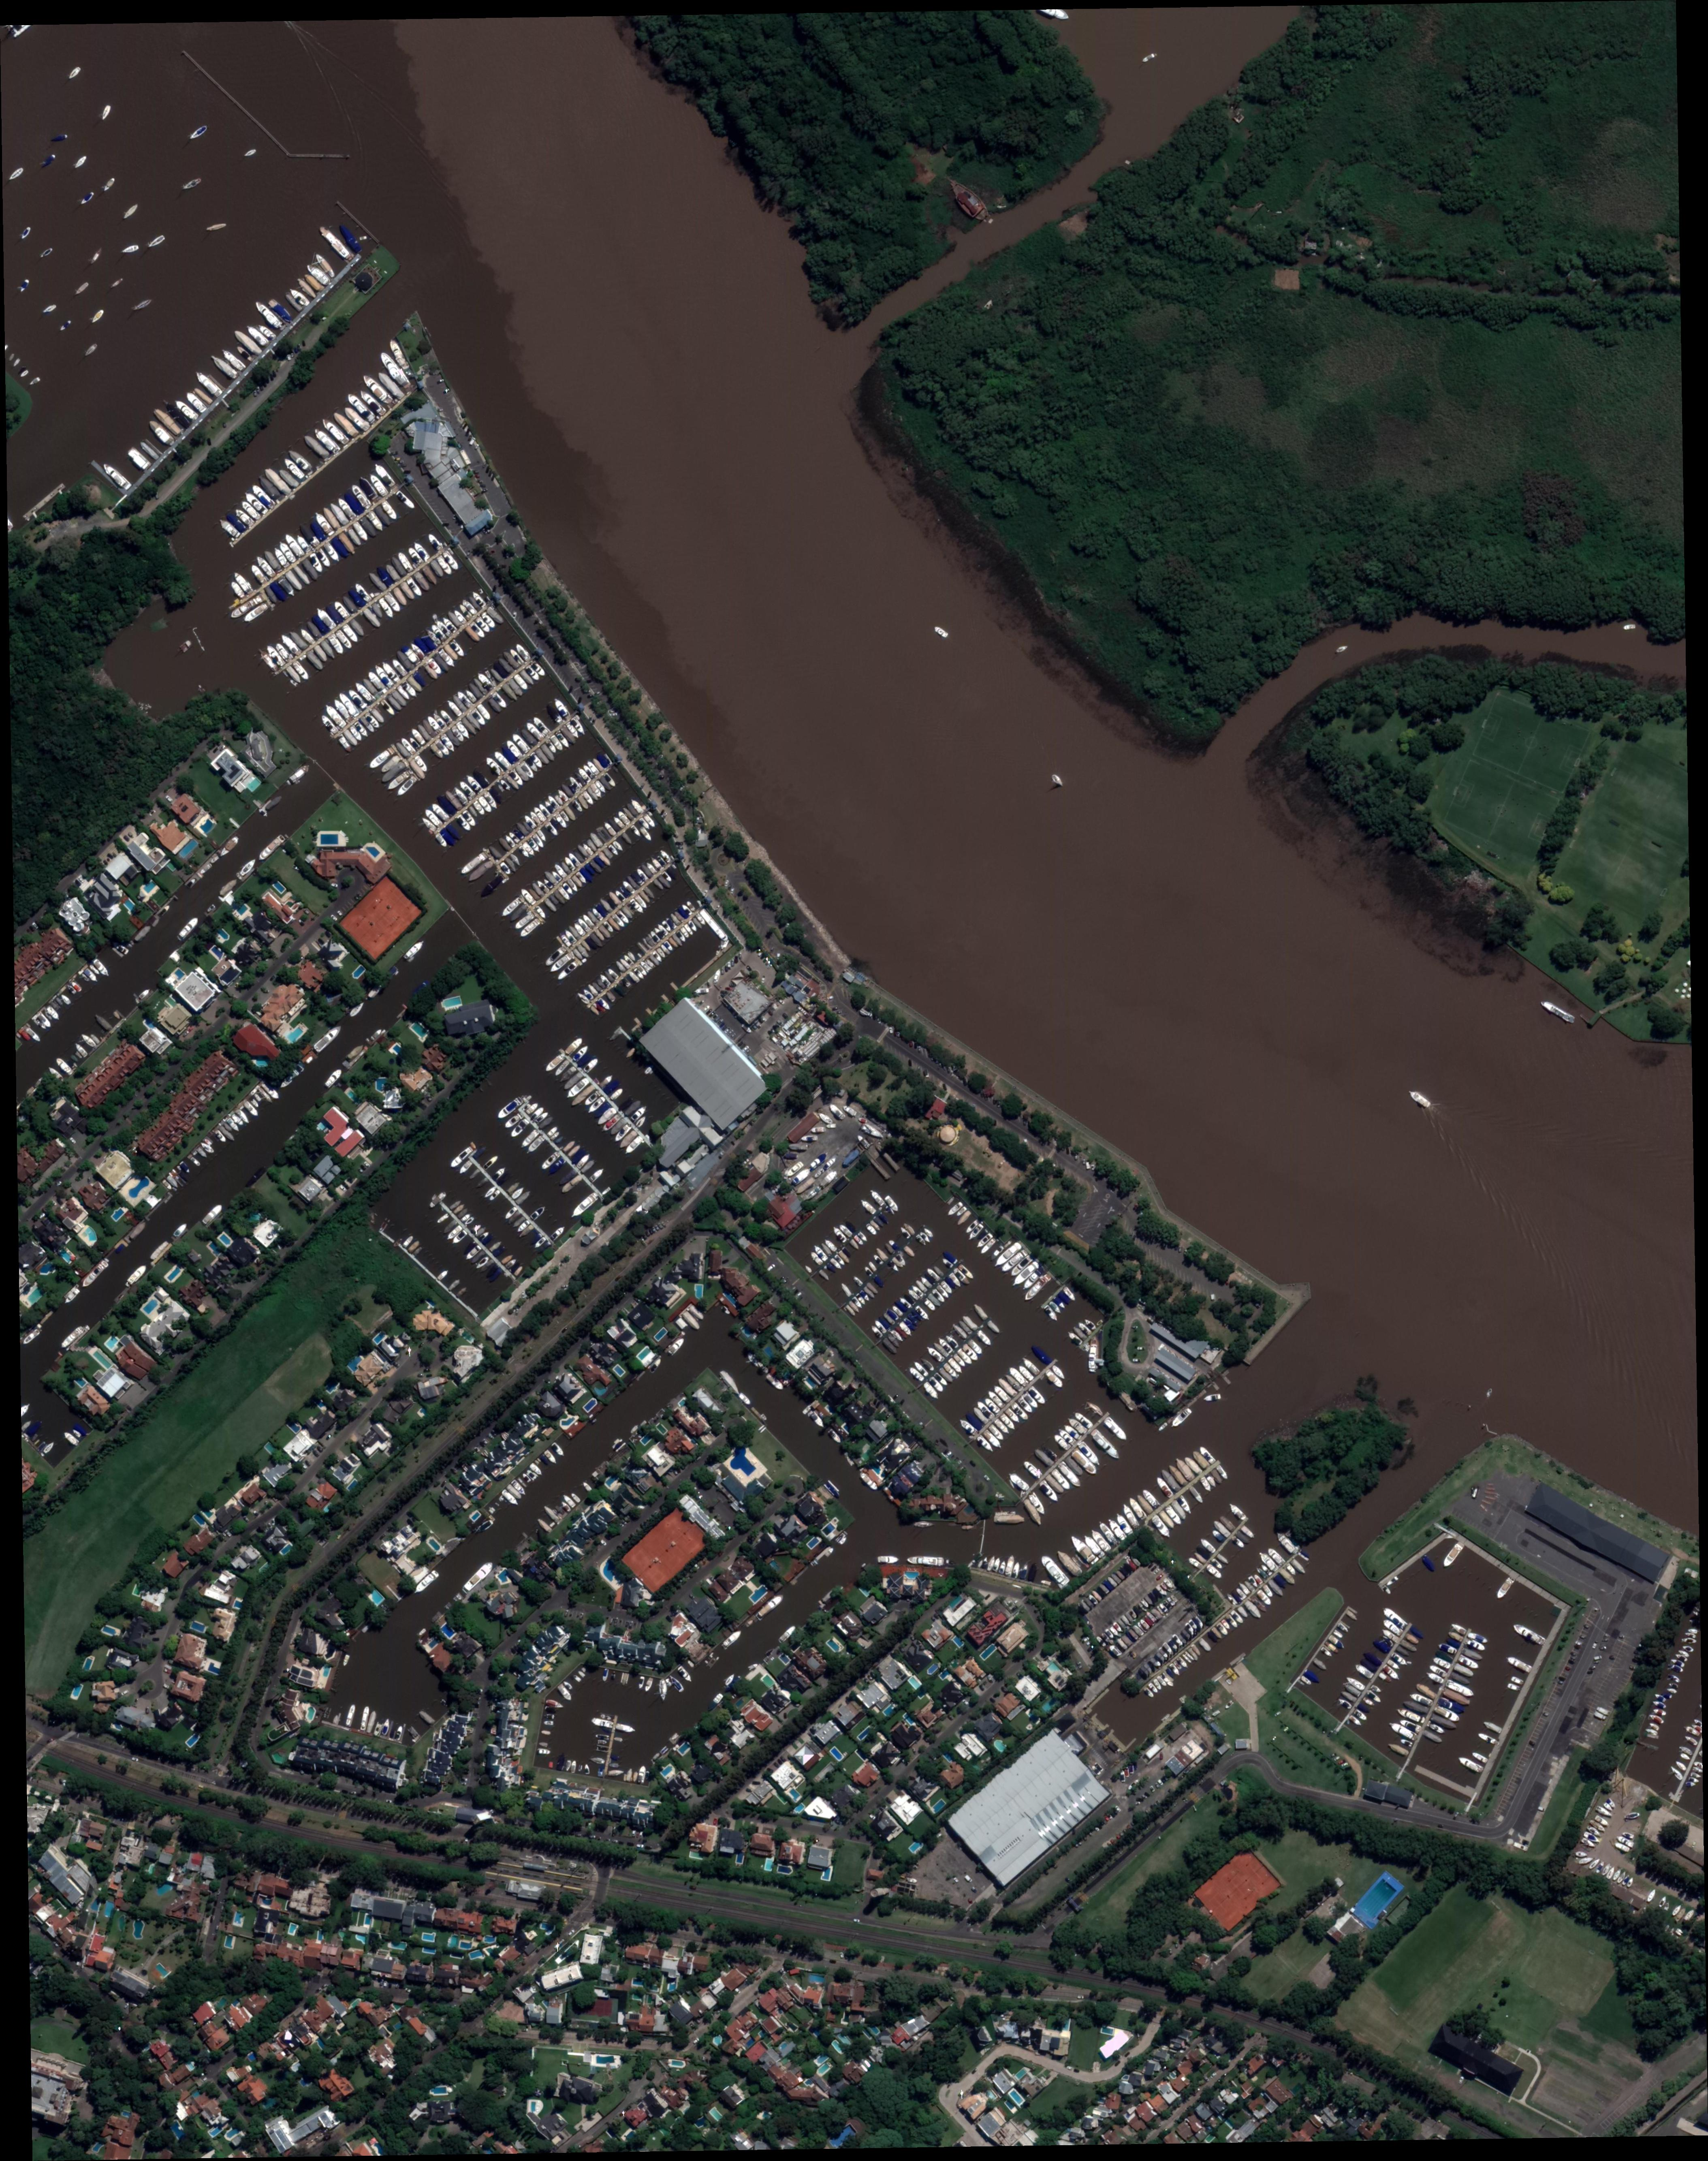harbor: (214, 347, 423, 547), (207, 461, 419, 630), (254, 528, 465, 693), (314, 586, 507, 754), (365, 640, 549, 800), (414, 695, 591, 852), (458, 749, 626, 902), (498, 795, 661, 942), (533, 842, 682, 986), (1378, 1621, 1492, 1779), (573, 895, 714, 1021), (1001, 1396, 1135, 1526), (495, 1088, 621, 1219), (544, 1033, 666, 1158), (449, 1137, 570, 1258), (1324, 1601, 1431, 1737), (952, 1340, 1073, 1459), (865, 1249, 977, 1359), (419, 1184, 528, 1296), (901, 1300, 1007, 1407), (829, 1214, 936, 1319), (798, 1184, 903, 1287), (1128, 1440, 1233, 1544), (1224, 1528, 1315, 1623), (1292, 1605, 1363, 1696), (607, 1026, 687, 1105), (1185, 1500, 1259, 1584), (1038, 1282, 1078, 1324)
ship: (942, 170, 994, 228), (316, 221, 358, 263), (375, 349, 412, 391), (459, 1558, 498, 1596), (149, 403, 186, 439), (344, 389, 379, 426), (359, 372, 396, 407), (1038, 1552, 1071, 1591), (388, 335, 416, 379), (698, 907, 731, 944), (191, 363, 224, 400), (230, 325, 267, 358), (253, 296, 286, 333), (310, 1023, 345, 1056), (1089, 1428, 1122, 1463), (1068, 1531, 1101, 1566), (228, 593, 267, 623), (1538, 996, 1576, 1026), (79, 1258, 112, 1291), (160, 396, 193, 430), (317, 414, 351, 447), (374, 368, 407, 402), (1022, 1270, 1054, 1305), (1510, 1621, 1548, 1649), (256, 831, 288, 865), (207, 351, 240, 382), (217, 342, 249, 375), (100, 461, 133, 493), (335, 221, 365, 256), (568, 1191, 600, 1223), (146, 417, 177, 449), (261, 465, 293, 496), (330, 407, 361, 439), (358, 388, 389, 419), (1070, 1447, 1101, 1479), (1054, 1547, 1085, 1579), (991, 1240, 1024, 1270), (1008, 1259, 1042, 1289), (125, 444, 154, 475), (275, 453, 307, 482), (300, 431, 331, 461), (310, 426, 342, 456), (342, 403, 374, 433), (267, 295, 296, 325), (303, 260, 333, 289), (284, 446, 314, 475), (370, 460, 398, 491), (1056, 1459, 1084, 1491), (1378, 1603, 1410, 1631), (449, 1142, 479, 1170), (1019, 1265, 1047, 1294), (182, 386, 210, 416), (244, 321, 272, 351), (998, 1249, 1029, 1275), (1387, 1719, 1420, 1744), (277, 1063, 305, 1091), (58, 1323, 86, 1351), (412, 1568, 440, 1596), (242, 489, 270, 517), (249, 482, 277, 510), (254, 474, 282, 502), (1101, 1416, 1129, 1444), (568, 1084, 598, 1110), (367, 745, 396, 772), (459, 851, 489, 877), (1080, 1531, 1107, 1561), (1157, 1465, 1184, 1494), (717, 1368, 744, 1398), (756, 1593, 786, 1619), (1440, 1540, 1466, 1570), (1021, 1496, 1045, 1528), (1173, 1452, 1198, 1484), (1394, 1705, 1427, 1728), (1436, 1694, 1470, 1717), (1433, 1701, 1466, 1724), (254, 645, 281, 674), (323, 702, 349, 730), (351, 679, 379, 705), (235, 496, 263, 523), (466, 858, 495, 884), (479, 874, 507, 900), (1077, 1440, 1103, 1468), (1094, 1519, 1121, 1547), (1443, 1679, 1478, 1700), (349, 482, 374, 512), (337, 689, 361, 719), (1119, 1500, 1142, 1531), (1441, 1686, 1473, 1708), (175, 916, 202, 942), (402, 937, 428, 963), (277, 631, 303, 658), (286, 284, 312, 310), (295, 275, 321, 302), (1275, 1530, 1301, 1556), (496, 1096, 524, 1121), (314, 603, 338, 631), (356, 474, 381, 502), (296, 521, 321, 549), (379, 760, 407, 784), (1405, 1086, 1433, 1110), (1049, 1466, 1073, 1494), (1164, 1461, 1189, 1489), (1105, 1514, 1129, 1542), (1089, 1526, 1114, 1554), (1455, 1752, 1485, 1775), (565, 1077, 591, 1102), (286, 763, 312, 788), (217, 833, 242, 859), (1008, 1254, 1035, 1279), (263, 642, 288, 668), (312, 510, 337, 537), (365, 668, 389, 695), (379, 658, 403, 684), (216, 516, 242, 540), (223, 509, 249, 533), (230, 503, 256, 528), (230, 570, 254, 596), (542, 945, 568, 970), (174, 398, 200, 423), (1007, 1363, 1031, 1389), (1256, 1547, 1280, 1573), (242, 602, 270, 624), (393, 645, 416, 674), (282, 531, 305, 560), (1494, 1573, 1517, 1601), (1429, 1712, 1461, 1731), (200, 1202, 224, 1226), (191, 384, 216, 409), (277, 467, 302, 491), (500, 896, 524, 921), (556, 959, 580, 984), (1029, 1342, 1054, 1366), (1170, 1407, 1194, 1431), (328, 500, 351, 526), (342, 489, 365, 516), (367, 472, 389, 498), (372, 663, 395, 689), (547, 952, 573, 975), (314, 253, 337, 279), (1038, 1479, 1061, 1505), (858, 1468, 880, 1494), (1150, 1514, 1173, 1540), (1126, 1494, 1149, 1521), (1114, 1510, 1135, 1538), (1401, 1698, 1431, 1717), (559, 1173, 584, 1196), (538, 1149, 563, 1172), (524, 1133, 547, 1158), (517, 1128, 540, 1152), (623, 1133, 645, 1158), (323, 1066, 345, 1091), (126, 1261, 149, 1286), (335, 496, 358, 521), (393, 489, 417, 512), (275, 574, 298, 598), (345, 688, 370, 710), (398, 642, 421, 667), (282, 289, 305, 314), (186, 121, 210, 144), (179, 174, 203, 196), (254, 554, 277, 579), (512, 910, 537, 933), (517, 917, 542, 940), (386, 770, 410, 793), (395, 775, 419, 798), (530, 714, 552, 738), (1021, 1458, 1045, 1480), (1007, 1470, 1031, 1493), (1043, 1473, 1066, 1498), (1063, 1454, 1085, 1479), (1140, 1486, 1163, 1510), (680, 1309, 703, 1333), (1242, 1598, 1264, 1623), (321, 505, 342, 531), (337, 531, 358, 558), (277, 538, 298, 565), (1413, 1680, 1440, 1701), (1028, 1491, 1047, 1519), (1408, 1689, 1436, 1708), (1505, 1654, 1533, 1673), (509, 1117, 531, 1140), (563, 1035, 586, 1058), (544, 1052, 566, 1075), (808, 1149, 831, 1172), (288, 628, 310, 651), (309, 612, 331, 635), (367, 570, 389, 593), (365, 510, 388, 533), (361, 607, 384, 630), (303, 649, 326, 672), (256, 321, 279, 344), (137, 439, 160, 461), (435, 795, 458, 817), (442, 789, 465, 812), (980, 1428, 1003, 1451), (963, 1409, 986, 1431), (986, 1387, 1008, 1410), (991, 1382, 1014, 1405), (996, 1375, 1019, 1398), (1019, 1354, 1042, 1377), (1043, 1368, 1066, 1391), (1182, 1454, 1205, 1477), (1264, 1545, 1287, 1568), (584, 1095, 608, 1116), (351, 519, 372, 544), (330, 535, 351, 560), (323, 540, 344, 565), (319, 712, 340, 737), (331, 696, 352, 721), (261, 547, 282, 572), (523, 721, 547, 742), (544, 702, 565, 726), (1191, 1447, 1212, 1472), (1154, 1475, 1175, 1500), (1135, 1491, 1156, 1516), (1163, 1503, 1184, 1528), (1380, 1617, 1405, 1638), (1457, 1652, 1484, 1672), (1089, 1333, 1101, 1373), (545, 1156, 566, 1179), (601, 1112, 623, 1135), (596, 1107, 619, 1128), (344, 1042, 367, 1063), (217, 877, 240, 898), (91, 956, 112, 979), (260, 1080, 282, 1102), (924, 1344, 947, 1365), (961, 1342, 982, 1365), (791, 1165, 814, 1186), (272, 640, 293, 663), (324, 603, 345, 626), (331, 598, 352, 621), (345, 588, 368, 609), (412, 570, 433, 593), (284, 570, 305, 593), (268, 581, 289, 603), (433, 616, 454, 638), (428, 621, 449, 644), (389, 656, 410, 679), (498, 742, 519, 765), (423, 807, 445, 828), (463, 772, 484, 795), (484, 756, 505, 779), (379, 754, 402, 775), (475, 670, 496, 693), (503, 738, 524, 761), (510, 731, 531, 754), (303, 272, 326, 293), (1056, 1426, 1078, 1447), (975, 1433, 996, 1456), (1066, 1416, 1089, 1437), (1033, 1447, 1056, 1468), (975, 1398, 996, 1421), (1003, 1372, 1026, 1393), (1010, 1400, 1031, 1423), (1157, 1508, 1178, 1531), (763, 1372, 786, 1393), (721, 1628, 744, 1649), (721, 1673, 744, 1694), (1249, 1593, 1270, 1615), (502, 1112, 526, 1131), (561, 1072, 586, 1091), (375, 565, 395, 589), (389, 554, 409, 579), (412, 538, 431, 563), (302, 558, 321, 582), (377, 596, 396, 621), (328, 631, 347, 656), (249, 561, 268, 586), (409, 758, 428, 782), (552, 696, 572, 721), (1170, 1498, 1189, 1523), (1385, 1740, 1410, 1759), (859, 1123, 886, 1140), (1398, 1717, 1424, 1735), (617, 1130, 638, 1151), (238, 856, 260, 877), (93, 1012, 114, 1033), (149, 1240, 170, 1261), (128, 1221, 149, 1242), (935, 1335, 956, 1356), (500, 1487, 521, 1508), (952, 1266, 973, 1287), (303, 619, 324, 640), (338, 593, 359, 614), (352, 582, 374, 603), (438, 614, 459, 635), (389, 688, 410, 709), (359, 677, 381, 698), (235, 342, 256, 363), (507, 903, 528, 924), (517, 886, 538, 907), (500, 682, 521, 703), (430, 802, 451, 823), (449, 693, 470, 714), (500, 649, 521, 670), (491, 749, 512, 770), (517, 726, 538, 747), (770, 1365, 791, 1386), (1084, 1398, 1105, 1419), (970, 1405, 991, 1426), (1212, 1517, 1233, 1538), (666, 1335, 687, 1356), (777, 1624, 798, 1645), (705, 1691, 726, 1712), (556, 1168, 579, 1187), (472, 1517, 495, 1537), (794, 1177, 817, 1196), (382, 560, 402, 582), (426, 530, 445, 553), (442, 549, 461, 572), (435, 554, 454, 577), (421, 565, 440, 588), (359, 516, 379, 538), (381, 500, 400, 523), (374, 505, 393, 528), (314, 547, 333, 570), (293, 565, 312, 588), (384, 591, 403, 614), (438, 647, 458, 670), (335, 628, 354, 651), (291, 660, 310, 682), (309, 521, 328, 544), (121, 200, 140, 223), (130, 296, 153, 316), (459, 716, 479, 738), (451, 784, 470, 807), (458, 779, 477, 802), (472, 767, 491, 789), (559, 724, 579, 747), (1071, 1410, 1094, 1430), (1061, 1421, 1084, 1440), (1050, 1431, 1073, 1451), (998, 1410, 1017, 1433), (666, 1672, 686, 1694), (542, 1503, 561, 1526), (1361, 1649, 1384, 1668), (1352, 1661, 1375, 1680), (396, 549, 414, 574), (1452, 1661, 1477, 1679), (1420, 1728, 1445, 1745), (1003, 1552, 1019, 1579), (1461, 1647, 1487, 1663), (630, 1103, 649, 1124), (614, 1123, 633, 1144), (608, 1117, 628, 1138), (582, 1089, 603, 1109), (558, 1065, 579, 1084), (480, 1152, 502, 1172), (133, 923, 153, 944), (33, 1010, 54, 1030), (21, 1328, 42, 1347), (63, 1286, 82, 1307), (928, 1375, 947, 1396), (922, 1380, 942, 1401), (942, 1361, 961, 1382), (947, 1356, 966, 1377), (950, 1321, 970, 1342), (912, 1358, 931, 1379), (907, 1365, 928, 1384), (956, 1347, 975, 1368), (505, 1482, 524, 1503), (417, 1707, 437, 1728), (829, 1224, 849, 1245), (25, 1419, 46, 1438), (60, 1430, 81, 1449), (828, 1102, 847, 1123), (966, 1223, 986, 1244), (405, 577, 424, 598), (398, 581, 417, 602), (445, 609, 465, 630), (486, 607, 507, 626), (405, 674, 424, 695), (400, 679, 419, 700), (386, 693, 405, 714), (363, 710, 382, 731), (424, 626, 444, 647), (412, 635, 431, 656), (349, 617, 368, 638), (284, 665, 303, 686), (407, 640, 426, 661), (433, 737, 452, 758), (512, 672, 531, 693), (507, 677, 526, 698), (454, 721, 473, 742), (438, 733, 458, 754), (409, 726, 428, 747), (424, 714, 444, 735), (456, 689, 475, 710), (438, 828, 458, 849), (445, 823, 465, 844), (538, 742, 558, 763), (1040, 1444, 1061, 1463), (987, 1423, 1007, 1444), (957, 1417, 979, 1437), (1015, 1361, 1035, 1382), (1028, 1386, 1047, 1407), (1021, 1391, 1042, 1410), (1015, 1394, 1035, 1416), (1217, 1514, 1238, 1533), (1228, 1501, 1249, 1521), (1198, 1444, 1217, 1465), (907, 1556, 945, 1566), (1382, 1663, 1403, 1682), (1303, 1666, 1324, 1686), (1345, 1673, 1366, 1693), (1266, 1579, 1285, 1600), (407, 544, 424, 567), (307, 553, 324, 575), (272, 546, 289, 568), (465, 710, 482, 733), (416, 721, 433, 744), (570, 716, 587, 738), (1466, 1637, 1489, 1654), (1448, 1670, 1473, 1686), (570, 1147, 589, 1166), (579, 1156, 598, 1175), (587, 1165, 607, 1184), (572, 1044, 591, 1063), (582, 1056, 601, 1075), (601, 1077, 621, 1096), (624, 1098, 644, 1117), (593, 1102, 612, 1121), (449, 1230, 468, 1249), (242, 1100, 261, 1119), (256, 1086, 275, 1105), (347, 1000, 367, 1019), (46, 1065, 65, 1084), (54, 1056, 74, 1075), (72, 1040, 91, 1059), (170, 1221, 189, 1240), (936, 1366, 956, 1386), (987, 1244, 1007, 1263), (1042, 1303, 1061, 1323), (931, 1340, 950, 1359), (966, 1338, 986, 1358), (979, 1237, 998, 1256), (859, 1196, 879, 1216), (819, 1170, 838, 1189), (803, 1184, 822, 1203), (880, 1337, 900, 1356), (298, 626, 317, 645), (459, 596, 479, 616), (379, 698, 398, 717), (368, 707, 388, 726), (491, 691, 510, 710), (486, 695, 505, 714), (428, 742, 447, 761), (514, 642, 533, 661), (491, 661, 510, 681), (496, 656, 516, 675), (533, 747, 552, 767), (454, 814, 473, 833), (993, 1417, 1012, 1437), (982, 1396, 1001, 1416), (1003, 1407, 1022, 1426), (1194, 1542, 1213, 1561), (687, 1303, 707, 1323), (535, 1516, 554, 1535), (1278, 1566, 1298, 1586), (65, 65, 84, 84), (263, 795, 284, 812), (358, 1705, 372, 1731), (971, 1302, 989, 1323), (812, 1242, 829, 1263), (345, 528, 363, 549), (456, 600, 473, 621), (470, 588, 487, 609), (470, 619, 487, 640), (449, 638, 466, 660), (433, 653, 451, 674), (421, 661, 438, 682), (342, 623, 359, 644), (319, 640, 337, 661), (312, 644, 330, 665), (295, 533, 312, 554), (146, 233, 167, 251), (89, 305, 107, 326), (342, 728, 359, 749), (337, 733, 354, 754), (470, 707, 487, 728), (421, 717, 438, 738), (431, 710, 449, 731), (472, 675, 489, 696), (554, 730, 572, 751), (519, 760, 537, 781), (514, 763, 531, 784), (487, 786, 505, 807), (477, 795, 495, 816), (461, 809, 479, 830), (175, 638, 196, 656), (556, 1682, 573, 1703), (1357, 1658, 1378, 1675), (1327, 1633, 1349, 1651), (1341, 1680, 1363, 1698), (1615, 1833, 1636, 1851), (1587, 1817, 1608, 1835), (1426, 1719, 1447, 1737), (393, 586, 409, 609), (1378, 1628, 1401, 1644), (1398, 1638, 1420, 1654), (1436, 1640, 1459, 1656), (993, 1514, 1026, 1524), (344, 1703, 358, 1728), (365, 1710, 379, 1735), (589, 1715, 614, 1730), (537, 1114, 556, 1131), (575, 1151, 593, 1170), (549, 1224, 568, 1242), (530, 1203, 547, 1223), (495, 1170, 514, 1187), (463, 1244, 482, 1261), (445, 1224, 465, 1242), (442, 1217, 459, 1237), (487, 1266, 505, 1286), (517, 1223, 537, 1240), (112, 938, 132, 956), (217, 1124, 237, 1142), (25, 1026, 44, 1044), (79, 1031, 98, 1049), (961, 1314, 979, 1333), (977, 1330, 994, 1349), (510, 1479, 528, 1498), (975, 1233, 994, 1251), (884, 1195, 901, 1214), (868, 1187, 886, 1207), (786, 1161, 805, 1179), (957, 1263, 977, 1280), (914, 1303, 931, 1323), (945, 1202, 964, 1219), (956, 1209, 973, 1228), (964, 1217, 982, 1237), (475, 616, 493, 635), (465, 624, 482, 644), (359, 716, 377, 735), (72, 153, 89, 172), (40, 151, 58, 170), (7, 165, 25, 184), (79, 188, 96, 207), (82, 340, 100, 360), (230, 581, 247, 600), (521, 840, 538, 859), (475, 703, 493, 723), (419, 816, 438, 833), (519, 668, 537, 688), (524, 665, 542, 684), (530, 660, 547, 679), (509, 647, 526, 667), (395, 740, 412, 760), (400, 737, 417, 756), (445, 698, 463, 717), (466, 681, 484, 700), (531, 805, 549, 824), (565, 721, 582, 740), (549, 733, 566, 752), (509, 768, 526, 788), (482, 791, 500, 810), (824, 1480, 842, 1500), (1070, 1324, 1089, 1342), (808, 1410, 826, 1430), (1050, 1363, 1068, 1382), (1205, 1563, 1224, 1580), (1187, 1486, 1205, 1505), (677, 1665, 694, 1684), (549, 1440, 566, 1459), (1366, 1687, 1385, 1705), (1391, 1651, 1410, 1668), (1420, 1554, 1438, 1573), (1312, 1656, 1331, 1673), (1673, 1905, 1690, 1924), (554, 1058, 570, 1079), (430, 558, 445, 579), (428, 656, 444, 677), (102, 174, 117, 195), (89, 246, 105, 267), (354, 719, 370, 740), (587, 830, 603, 851), (451, 724, 466, 745), (1682, 1722, 1703, 1738), (1177, 1494, 1192, 1516), (1424, 1670, 1445, 1686), (1371, 1638, 1392, 1654), (1338, 1687, 1359, 1703), (1427, 1663, 1448, 1679), (1582, 1829, 1603, 1845), (1445, 1628, 1466, 1644), (1448, 1621, 1470, 1637), (1482, 1719, 1503, 1735), (1026, 1561, 1040, 1584), (1468, 1631, 1491, 1645), (516, 1189, 533, 1207), (598, 1072, 616, 1089), (491, 1165, 509, 1182), (479, 1258, 496, 1275), (473, 1254, 491, 1272), (470, 1249, 487, 1266), (461, 1238, 479, 1256), (82, 966, 100, 984), (956, 1319, 973, 1337), (943, 1333, 961, 1351), (919, 1356, 936, 1373), (986, 1319, 1003, 1337), (836, 1223, 854, 1240), (924, 1265, 942, 1282), (942, 1249, 959, 1266), (926, 1291, 943, 1309), (596, 851, 614, 868), (587, 858, 605, 875), (542, 870, 559, 888), (610, 912, 628, 930), (496, 837, 514, 854), (559, 782, 577, 800), (1066, 1330, 1084, 1347), (1077, 1319, 1094, 1337), (826, 1428, 843, 1445), (1199, 1537, 1217, 1554), (561, 1493, 579, 1510), (1668, 1765, 1685, 1782), (1291, 1558, 1308, 1575), (1271, 1573, 1289, 1591), (1256, 1589, 1273, 1607), (46, 1003, 61, 1023), (808, 1249, 824, 1268), (886, 1331, 901, 1351), (263, 586, 279, 605), (444, 644, 459, 663), (480, 610, 496, 630), (412, 670, 428, 689), (347, 724, 363, 744), (526, 837, 542, 856), (503, 856, 519, 875), (598, 923, 614, 942), (621, 877, 637, 896), (445, 730, 461, 749), (414, 754, 430, 774), (438, 707, 454, 726), (577, 765, 593, 784), (524, 754, 540, 774), (505, 774, 521, 793), (1334, 1696, 1354, 1712), (1682, 1907, 1697, 1926), (1470, 1751, 1489, 1766), (614, 1722, 638, 1735), (100, 102, 114, 123), (1431, 1656, 1452, 1670), (1612, 1840, 1633, 1854), (1477, 1731, 1498, 1745), (1594, 1805, 1615, 1819), (544, 1698, 566, 1710), (566, 1142, 582, 1159), (510, 1184, 528, 1200), (575, 1052, 593, 1068), (484, 1263, 500, 1280), (510, 1214, 528, 1230), (514, 1219, 531, 1235), (535, 1240, 552, 1256), (1050, 772, 1066, 789), (226, 1116, 242, 1133), (235, 1109, 251, 1126), (198, 1140, 216, 1156), (165, 1173, 181, 1191), (1063, 1286, 1078, 1303), (1057, 1289, 1073, 1307), (1047, 1300, 1064, 1316), (952, 1352, 968, 1370), (875, 1245, 891, 1263), (819, 1240, 835, 1258), (822, 1237, 838, 1254), (817, 1110, 835, 1126), (856, 1133, 872, 1151), (922, 1296, 938, 1314), (935, 1284, 950, 1302), (931, 1287, 947, 1305), (898, 1321, 914, 1338), (889, 1328, 905, 1345), (880, 1310, 896, 1328), (452, 607, 468, 624), (396, 684, 412, 702), (74, 281, 89, 298), (58, 317, 74, 335), (642, 812, 658, 830), (566, 851, 582, 868), (575, 842, 591, 859), (601, 821, 617, 838), (607, 816, 623, 833), (616, 809, 631, 826), (630, 798, 645, 816), (638, 826, 654, 844), (582, 861, 598, 879), (579, 867, 594, 884), (552, 861, 568, 879), (586, 786, 601, 803), (570, 798, 586, 816), (544, 821, 559, 838), (530, 881, 545, 898), (535, 877, 551, 895), (565, 877, 580, 895), (556, 884, 572, 902), (630, 898, 645, 916), (616, 909, 631, 926), (607, 916, 623, 933), (589, 931, 605, 949), (552, 889, 568, 907), (575, 942, 591, 959), (575, 989, 591, 1007), (658, 874, 673, 891), (544, 896, 559, 914), (558, 931, 573, 949), (563, 928, 579, 945), (572, 921, 587, 938), (577, 916, 593, 933), (586, 909, 601, 926), (598, 896, 614, 914), (607, 889, 623, 907), (630, 870, 645, 888), (638, 861, 654, 879), (649, 854, 665, 872), (589, 782, 605, 800), (598, 775, 614, 793), (463, 688, 479, 705), (601, 772, 617, 789), (487, 844, 503, 861), (514, 821, 531, 837), (523, 812, 538, 830), (542, 798, 558, 816), (545, 793, 561, 810), (572, 770, 587, 788), (580, 763, 596, 781), (586, 760, 601, 777), (433, 831, 449, 849), (472, 800, 487, 817), (1210, 1528, 1228, 1544), (1187, 1556, 1205, 1572), (1235, 1530, 1252, 1545), (1229, 1535, 1247, 1551), (737, 1391, 754, 1407), (528, 1461, 544, 1479), (544, 1449, 559, 1466), (1324, 1640, 1341, 1656), (1585, 1824, 1603, 1840), (1594, 1814, 1612, 1829), (1224, 1591, 1242, 1607), (1229, 1608, 1245, 1626), (1224, 1614, 1240, 1631), (1215, 1621, 1231, 1638), (1170, 1631, 1185, 1649), (1159, 1672, 1175, 1689), (1198, 1637, 1213, 1654), (582, 789, 596, 809), (577, 793, 591, 812), (530, 751, 544, 770), (1215, 1463, 1229, 1482), (1408, 1626, 1427, 1640), (1578, 1835, 1598, 1849), (1645, 1886, 1659, 1905), (1676, 1744, 1696, 1758), (205, 221, 226, 233), (986, 1552, 998, 1573), (1019, 1561, 1031, 1582), (524, 1100, 540, 1116), (530, 1105, 545, 1121), (561, 1138, 577, 1154), (633, 1114, 649, 1130), (608, 1088, 624, 1103), (507, 1179, 523, 1195), (447, 1277, 463, 1293), (473, 1144, 489, 1159), (458, 1159, 473, 1175), (482, 1184, 498, 1200), (503, 1205, 519, 1221), (507, 1210, 523, 1226), (480, 1231, 496, 1247), (489, 1238, 505, 1254), (230, 1112, 246, 1128), (137, 986, 153, 1002), (933, 1372, 949, 1387), (1052, 1294, 1068, 1310), (843, 1219, 859, 1235), (42, 1440, 58, 1456), (842, 1103, 858, 1119), (822, 1156, 838, 1172), (940, 1280, 956, 1296), (894, 1324, 910, 1340), (919, 1275, 935, 1291), (914, 1279, 929, 1294), (910, 1282, 926, 1298), (901, 1221, 917, 1237), (901, 1244, 917, 1259), (865, 1280, 880, 1296), (886, 1307, 901, 1323), (624, 802, 640, 817), (584, 935, 600, 951), (566, 924, 582, 940), (626, 875, 642, 891), (635, 867, 651, 882), (489, 667, 505, 682), (507, 830, 523, 845), (528, 810, 544, 826), (594, 752, 610, 768), (1240, 1524, 1256, 1540), (745, 1352, 761, 1368), (1405, 1631, 1420, 1647), (1587, 1856, 1603, 1872), (1673, 1758, 1689, 1773), (1254, 1565, 1270, 1580), (1236, 1580, 1252, 1596), (1205, 1630, 1221, 1645), (533, 1110, 551, 1124), (933, 624, 950, 638), (665, 914, 679, 931), (214, 1128, 228, 1145), (840, 1282, 854, 1300), (949, 1272, 963, 1289), (870, 1323, 884, 1340), (873, 1317, 887, 1335), (468, 595, 482, 612), (18, 277, 32, 295), (40, 302, 58, 316), (563, 854, 577, 872), (623, 805, 637, 823), (561, 881, 575, 898), (563, 805, 577, 823), (554, 812, 568, 830), (531, 833, 545, 851), (500, 859, 514, 877), (635, 893, 649, 910), (621, 905, 635, 923), (658, 847, 672, 865), (533, 903, 547, 921), (582, 912, 596, 930), (591, 905, 605, 923), (594, 902, 608, 919), (538, 802, 552, 819), (568, 774, 582, 791), (591, 756, 605, 774), (1648, 1712, 1666, 1726), (1666, 1672, 1683, 1686), (1669, 1656, 1687, 1670), (377, 1217, 391, 1235), (1210, 1468, 1224, 1486), (1205, 1472, 1219, 1489), (1199, 1475, 1213, 1493), (649, 1358, 663, 1375), (1394, 1645, 1412, 1659), (1377, 1670, 1394, 1684), (1352, 1708, 1370, 1722), (1347, 1714, 1364, 1728), (637, 1763, 647, 1786), (556, 1752, 568, 1772), (119, 244, 139, 256), (1666, 1663, 1685, 1675), (1010, 1561, 1022, 1580), (1443, 1637, 1462, 1649), (368, 1028, 384, 1042), (608, 1028, 623, 1044), (407, 1238, 421, 1254), (454, 1284, 468, 1300), (512, 1263, 526, 1279), (503, 1256, 519, 1270), (500, 1252, 516, 1266), (528, 1233, 544, 1247), (531, 1237, 547, 1251), (491, 1244, 507, 1258), (198, 861, 214, 875), (656, 921, 670, 937), (668, 912, 682, 928), (680, 902, 694, 917), (666, 935, 680, 951), (628, 970, 642, 986), (596, 998, 612, 1012), (838, 1249, 852, 1265), (833, 1252, 847, 1268), (787, 1142, 808, 1152), (940, 1256, 956, 1270), (943, 1275, 957, 1291), (901, 1317, 917, 1331), (886, 1259, 901, 1273), (847, 1298, 861, 1314), (894, 1298, 908, 1314), (898, 1294, 912, 1310), (242, 146, 258, 160), (39, 246, 54, 260), (109, 277, 125, 291), (621, 831, 635, 847), (607, 844, 621, 859), (601, 845, 616, 861), (593, 854, 607, 870), (575, 870, 589, 886), (570, 874, 584, 889), (559, 859, 573, 875), (517, 844, 531, 859), (509, 852, 523, 868), (594, 779, 608, 795), (644, 886, 658, 902), (638, 889, 652, 905), (598, 972, 612, 988), (645, 859, 659, 875), (503, 833, 517, 849), (556, 788, 570, 803), (1652, 1691, 1668, 1705), (1126, 1779, 1142, 1793), (1192, 1551, 1208, 1565), (1215, 1552, 1231, 1566), (722, 1672, 737, 1687), (1380, 1633, 1394, 1649), (1387, 1658, 1403, 1672), (1319, 1645, 1334, 1659), (1105, 1573, 1119, 1589), (1117, 1563, 1131, 1579), (1115, 1637, 1129, 1652), (1078, 1598, 1092, 1614), (1235, 1586, 1249, 1601), (1210, 1626, 1224, 1642), (1161, 1642, 1175, 1658), (1149, 1656, 1164, 1670), (1131, 1623, 1145, 1638), (1168, 1663, 1182, 1679), (1175, 1656, 1191, 1670), (1185, 1647, 1199, 1663), (672, 931, 684, 949), (49, 132, 67, 144), (19, 225, 32, 242), (843, 1451, 856, 1468), (991, 1556, 1003, 1573), (912, 1521, 936, 1530), (1356, 1703, 1373, 1715), (1191, 1615, 1203, 1633), (587, 1756, 607, 1766), (381, 1717, 391, 1737), (1203, 1393, 1222, 1403), (545, 1124, 559, 1138), (552, 1133, 566, 1147), (437, 1212, 451, 1226), (402, 1235, 416, 1249), (410, 1245, 424, 1259), (437, 1268, 451, 1282), (475, 1177, 489, 1191), (487, 1189, 502, 1203), (452, 1202, 466, 1216), (456, 1207, 470, 1221), (468, 1223, 482, 1237), (473, 1224, 487, 1238), (65, 982, 79, 996), (88, 963, 102, 977), (691, 916, 705, 930), (659, 944, 673, 958), (651, 949, 665, 963), (640, 959, 654, 974), (635, 963, 649, 977), (631, 966, 645, 981), (587, 1003, 601, 1017), (195, 1145, 209, 1159), (160, 1177, 174, 1191), (817, 1268, 831, 1282), (877, 1212, 891, 1226), (872, 1216, 886, 1230), (868, 1219, 882, 1233), (865, 1223, 879, 1237), (852, 1233, 866, 1247), (849, 1238, 863, 1252), (829, 1258, 843, 1272), (824, 1261, 838, 1275), (872, 1252, 886, 1266), (924, 1272, 938, 1286), (931, 1265, 945, 1279), (887, 1238, 901, 1252), (910, 1309, 924, 1323), (907, 1287, 921, 1302), (919, 1230, 933, 1244), (914, 1233, 928, 1247), (894, 1252, 908, 1266), (891, 1256, 905, 1270), (872, 1275, 886, 1289), (863, 1286, 877, 1300), (850, 1296, 865, 1310), (843, 1303, 858, 1317), (891, 1305, 905, 1319), (903, 1293, 917, 1307), (652, 926, 666, 940), (612, 816, 626, 830), (638, 817, 652, 831), (528, 888, 542, 902), (542, 877, 556, 891), (652, 877, 666, 891), (601, 921, 616, 935), (593, 928, 607, 942), (582, 988, 596, 1002), (607, 966, 621, 981), (614, 959, 628, 974), (547, 893, 561, 907), (512, 828, 526, 842), (521, 819, 535, 833), (498, 779, 512, 793), (1084, 1317, 1098, 1331), (561, 1679, 575, 1693), (559, 1500, 573, 1514), (538, 1454, 552, 1468), (1345, 1608, 1359, 1623), (1336, 1621, 1350, 1635), (1299, 1673, 1313, 1687), (1669, 1903, 1683, 1917), (1101, 1579, 1115, 1593), (1110, 1572, 1124, 1586), (1108, 1644, 1122, 1658), (1091, 1587, 1105, 1601), (1259, 1563, 1273, 1577), (1231, 1591, 1245, 1605), (1166, 1638, 1180, 1652), (1175, 1631, 1189, 1645), (1192, 1615, 1206, 1630), (1138, 1617, 1152, 1631), (1142, 1614, 1156, 1628), (1145, 1610, 1159, 1624), (1142, 1686, 1156, 1700), (475, 1230, 491, 1242), (1140, 53, 1156, 65), (673, 909, 686, 924), (694, 912, 707, 928), (675, 930, 687, 945), (60, 991, 72, 1007), (372, 1721, 384, 1737), (907, 1312, 919, 1328), (900, 1224, 912, 1240), (879, 1316, 891, 1331), (649, 928, 661, 944), (372, 603, 384, 619), (28, 375, 44, 388), (586, 838, 598, 854), (549, 817, 561, 833), (537, 828, 549, 844), (587, 982, 600, 998), (409, 735, 421, 751), (545, 738, 558, 754), (1673, 1652, 1689, 1665), (1680, 1644, 1696, 1656), (1368, 1684, 1384, 1696), (1361, 1696, 1377, 1708), (1399, 1737, 1415, 1749), (1601, 1861, 1613, 1877), (1612, 1866, 1624, 1882), (1615, 1870, 1627, 1886), (1683, 1735, 1699, 1747), (1112, 1619, 1124, 1635), (1147, 1589, 1159, 1605), (1156, 1582, 1168, 1598), (1263, 1584, 1275, 1600), (1236, 1605, 1249, 1621), (1121, 1633, 1133, 1649), (1157, 1645, 1170, 1661), (1154, 1649, 1166, 1665), (1147, 1680, 1159, 1696), (1191, 1644, 1203, 1659), (1136, 1666, 1149, 1682), (395, 1724, 405, 1742), (1643, 1726, 1661, 1737), (1650, 1700, 1668, 1710), (624, 1047, 637, 1061), (468, 1168, 482, 1180), (449, 1200, 463, 1212), (661, 919, 673, 933), (679, 926, 691, 940), (663, 940, 675, 954), (656, 947, 668, 961), (647, 954, 661, 966), (605, 989, 617, 1003), (89, 1031, 102, 1045), (179, 1159, 191, 1173), (189, 1156, 203, 1168), (524, 1468, 538, 1480), (977, 1228, 989, 1242), (863, 1265, 875, 1279), (19, 1419, 32, 1433), (956, 1205, 968, 1219), (859, 1289, 872, 1303), (856, 1293, 868, 1307), (623, 952, 635, 966), (582, 842, 594, 856), (630, 824, 642, 838), (610, 840, 624, 852), (559, 809, 572, 823), (580, 938, 593, 952), (572, 947, 584, 961), (591, 981, 605, 993), (596, 977, 608, 991), (619, 956, 631, 970), (661, 870, 673, 884), (656, 854, 668, 868), (614, 889, 628, 902), (619, 884, 631, 898), (1648, 1721, 1662, 1733), (1210, 1558, 1224, 1570), (877, 1556, 901, 1563), (570, 1491, 582, 1505), (763, 1647, 777, 1659), (1385, 1575, 1399, 1587), (1594, 1861, 1606, 1875), (1605, 1866, 1617, 1880), (1624, 1875, 1636, 1889), (1657, 1894, 1669, 1908), (1108, 1624, 1121, 1638), (1096, 1584, 1108, 1598), (1098, 1580, 1110, 1594), (1122, 1561, 1135, 1575), (1126, 1558, 1138, 1572), (1129, 1554, 1142, 1568), (1094, 1635, 1108, 1647), (1115, 1617, 1128, 1631), (1119, 1614, 1131, 1628), (1124, 1610, 1136, 1624), (1131, 1603, 1143, 1617), (1143, 1593, 1156, 1607), (1152, 1587, 1164, 1601), (1087, 1593, 1100, 1607), (1252, 1572, 1264, 1586), (1247, 1575, 1259, 1589), (1243, 1579, 1256, 1593), (1285, 1563, 1298, 1577), (1180, 1628, 1192, 1642), (1184, 1621, 1196, 1635), (1187, 1617, 1199, 1631), (1128, 1628, 1140, 1642), (1152, 1652, 1164, 1666), (1136, 1621, 1149, 1635), (1164, 1666, 1177, 1680), (1142, 1663, 1154, 1677), (712, 968, 722, 984), (842, 1244, 852, 1259), (1652, 1707, 1668, 1717), (998, 1559, 1008, 1575), (644, 1677, 654, 1693), (1578, 1856, 1594, 1866), (1505, 1682, 1520, 1693), (1510, 1675, 1526, 1686), (1334, 644, 1350, 654), (1152, 1677, 1163, 1693), (1147, 1659, 1157, 1675), (659, 1679, 666, 1701), (1622, 1812, 1640, 1821), (549, 1130, 561, 1142), (459, 1212, 472, 1224), (463, 1216, 475, 1228), (186, 877, 198, 889), (70, 981, 82, 993), (223, 1121, 235, 1133), (521, 1472, 533, 1484), (852, 1275, 865, 1287), (70, 1428, 82, 1440), (884, 1242, 896, 1254), (551, 870, 563, 882), (603, 970, 616, 982), (719, 1305, 731, 1317), (744, 1617, 756, 1630), (580, 1480, 593, 1493), (1333, 1628, 1345, 1640), (1100, 1631, 1112, 1644), (1140, 1598, 1152, 1610), (1163, 1577, 1175, 1589), (1091, 1765, 1103, 1777), (1156, 1605, 1168, 1617), (1157, 1601, 1170, 1614), (1159, 1712, 1171, 1724), (1156, 1675, 1168, 1687), (687, 919, 698, 933), (684, 923, 694, 937), (868, 1259, 879, 1273), (18, 363, 28, 377), (468, 805, 479, 819), (1676, 1649, 1690, 1659), (1620, 1873, 1631, 1887), (1606, 1796, 1617, 1810), (1221, 1617, 1231, 1631), (1163, 1598, 1173, 1612), (537, 1747, 552, 1756), (570, 1758, 579, 1773), (1683, 1631, 1699, 1640), (601, 1668, 610, 1684), (1620, 1831, 1636, 1840), (607, 1770, 626, 1777), (1680, 1637, 1699, 1644), (601, 1184, 612, 1196), (740, 1023, 752, 1033), (205, 903, 217, 914), (160, 905, 170, 917), (81, 972, 91, 984), (249, 1098, 260, 1110), (54, 995, 65, 1007), (305, 1054, 316, 1066), (37, 1019, 47, 1031), (70, 1052, 81, 1065), (858, 1231, 868, 1244), (803, 1263, 814, 1275), (112, 1009, 123, 1021), (814, 1168, 826, 1179), (922, 1228, 935, 1238), (626, 951, 637, 963), (19, 368, 32, 379), (554, 795, 565, 807), (568, 782, 579, 795), (1484, 1387, 1494, 1400), (747, 1661, 759, 1672), (686, 1658, 696, 1670), (572, 1672, 582, 1684), (824, 1547, 835, 1559), (1382, 1584, 1392, 1596), (1601, 1801, 1613, 1812), (1115, 1568, 1126, 1580), (1105, 1628, 1115, 1640), (1084, 1596, 1094, 1608), (1094, 1761, 1105, 1773), (342, 1652, 351, 1666), (800, 1135, 817, 1142), (626, 1768, 635, 1782), (1687, 1775, 1701, 1784), (1666, 1682, 1680, 1691), (1678, 1752, 1692, 1761), (521, 1102, 531, 1112), (393, 1238, 403, 1249), (210, 854, 221, 865), (253, 1093, 263, 1103), (258, 807, 268, 817), (203, 1137, 214, 1147), (584, 1761, 591, 1777), (594, 1733, 610, 1740), (886, 1205, 896, 1216), (810, 1126, 826, 1133), (966, 1559, 977, 1570), (1157, 1423, 1168, 1433), (577, 1670, 587, 1680), (638, 1675, 645, 1691), (838, 1537, 849, 1547), (651, 1751, 661, 1761), (1128, 1608, 1138, 1619), (1166, 1596, 1177, 1607), (1170, 1594, 1180, 1605), (1224, 1700, 1235, 1710), (7, 351, 16, 363), (12, 356, 21, 368), (1661, 1691, 1673, 1700), (1687, 1626, 1699, 1635), (1690, 1772, 1703, 1780), (1040, 1579, 1052, 1587), (694, 988, 708, 995), (565, 1759, 572, 1773), (600, 1714, 614, 1721), (1622, 624, 1636, 631), (982, 1556, 989, 1570), (1575, 1851, 1589, 1858), (331, 1714, 340, 1724), (538, 1740, 549, 1749), (1096, 1317, 1105, 1328), (759, 1412, 768, 1423), (756, 1359, 765, 1370), (1662, 1901, 1671, 1912), (1212, 1708, 1221, 1719), (540, 1730, 552, 1737), (544, 1714, 556, 1721), (32, 1431, 39, 1444), (633, 1772, 640, 1784), (1666, 1687, 1678, 1694), (289, 679, 298, 688), (1676, 1926, 1685, 1935), (598, 1738, 608, 1745), (614, 1737, 624, 1744), (784, 1154, 798, 1159), (826, 1123, 836, 1130), (858, 1117, 868, 1124), (977, 1559, 984, 1570), (961, 1526, 975, 1531), (610, 1670, 617, 1680), (1121, 1770, 1126, 1784), (1124, 1766, 1131, 1777), (544, 1721, 556, 1726), (1685, 1782, 1697, 1787), (1129, 1763, 1135, 1775), (359, 235, 368, 242), (1675, 1929, 1683, 1936), (608, 1763, 619, 1768), (645, 1770, 651, 1780), (440, 1480, 447, 1487), (623, 1773, 628, 1782), (579, 782, 584, 789)
